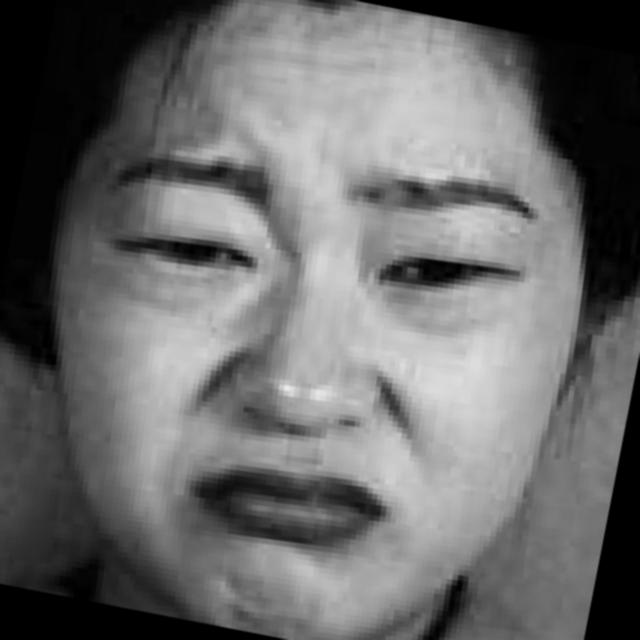disgust: (38, 37, 599, 640)
